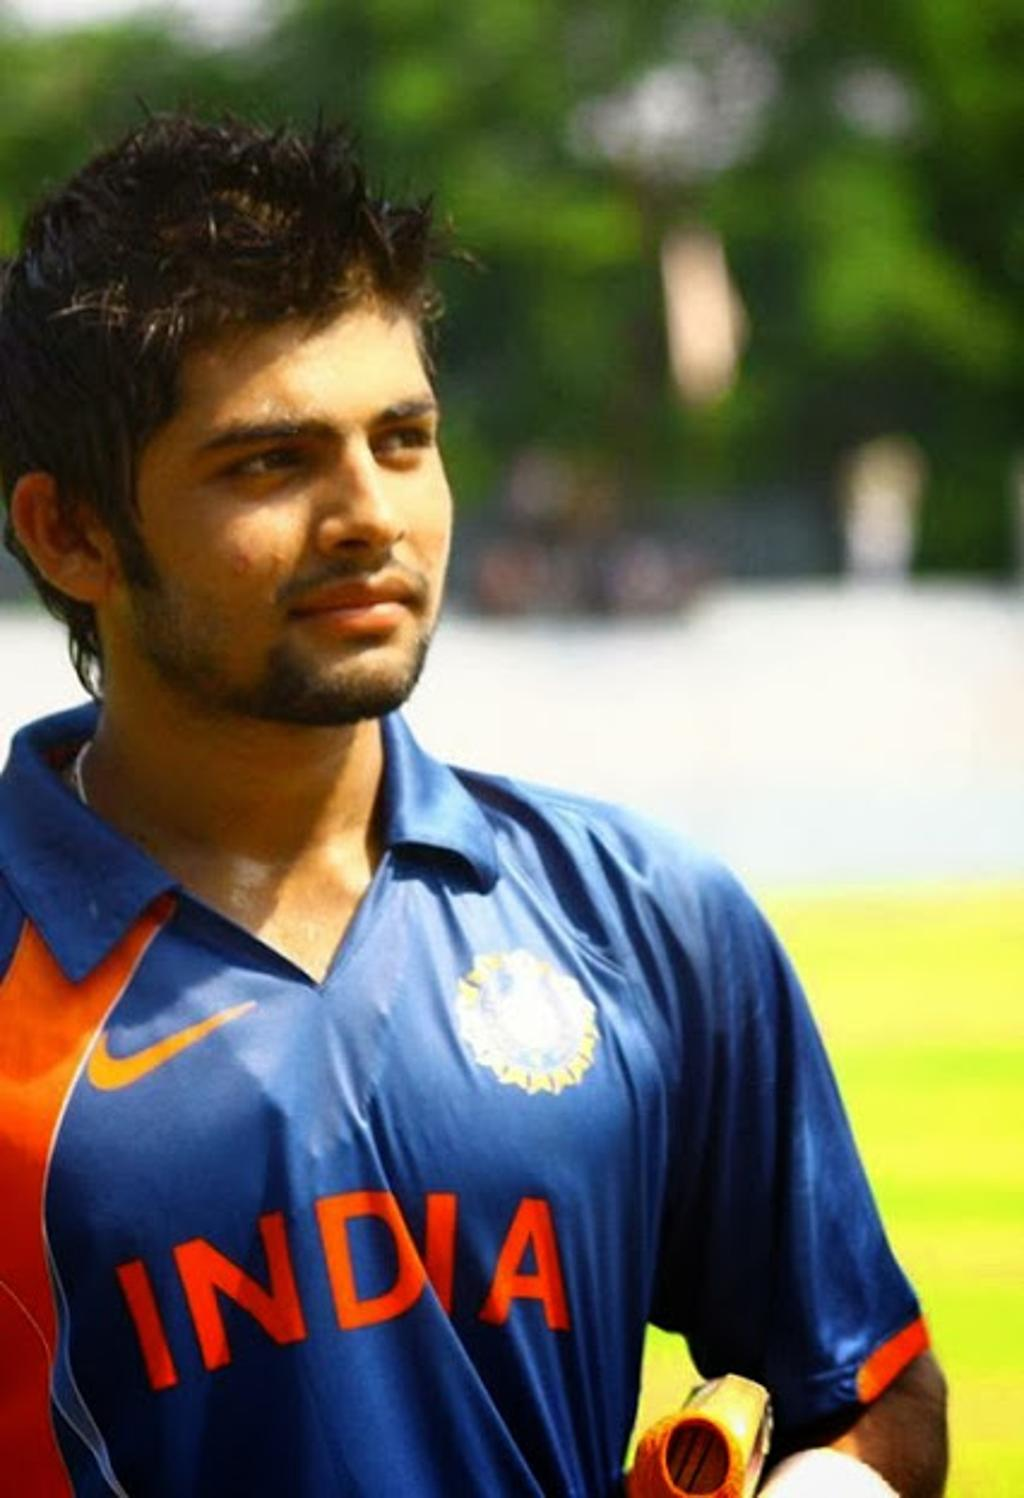face: (123, 301, 459, 719)
